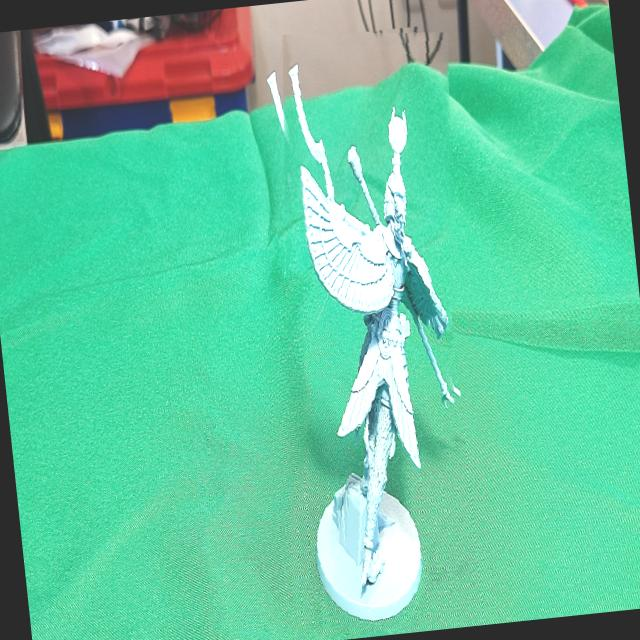isis: (244, 21, 497, 640)
